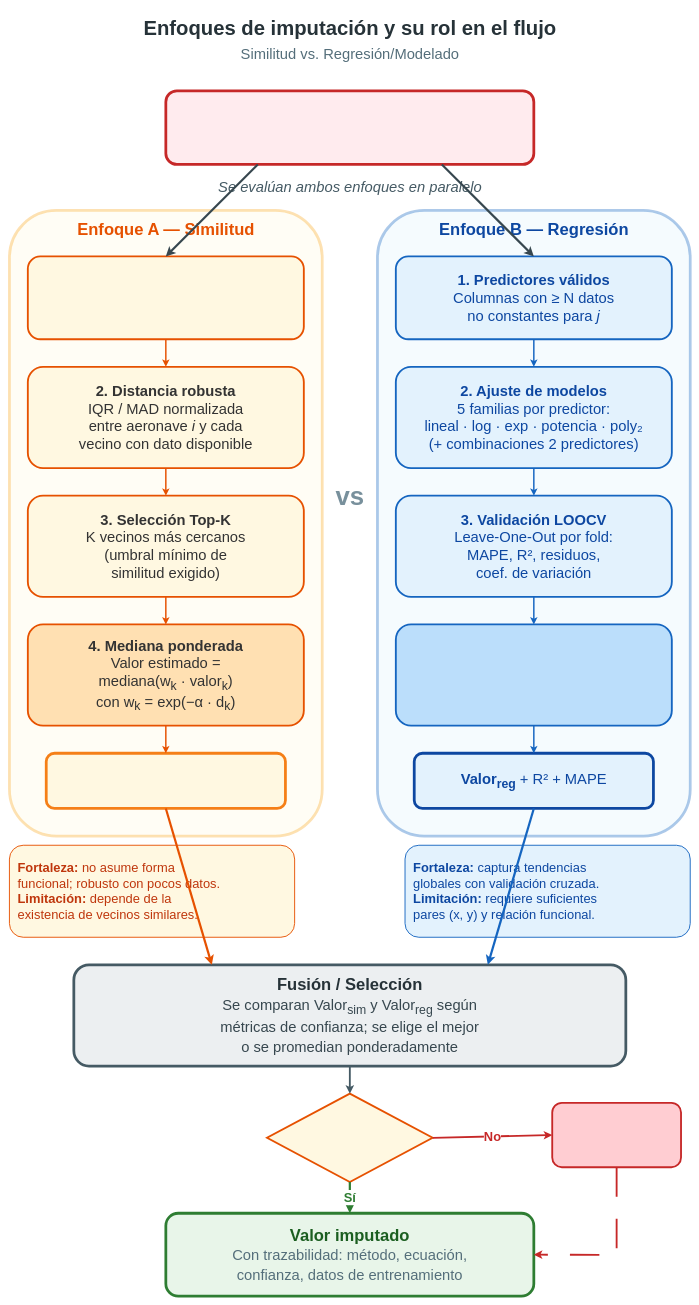
This 699x1305 diagram has some shape labels left out. The shapes that lost their labels are listed below. From the top down, each one's centre as x and y in pixels, then its label:
(x=349, y=127): Celda faltante Aeronave i × Parámetro j = NaN
(x=166, y=297): 1. Perfil del objetivo Vector de parámetros conocidos de aeronave i
(x=534, y=674): 4. Mejor modelo Ranking por métrica compuesta → predicción con ecuación ganadora
(x=166, y=781): Valor sim + dispersión
(x=349, y=1137): ¿Confianza suficiente?
(x=616, y=1135): Fallback sin filtro
